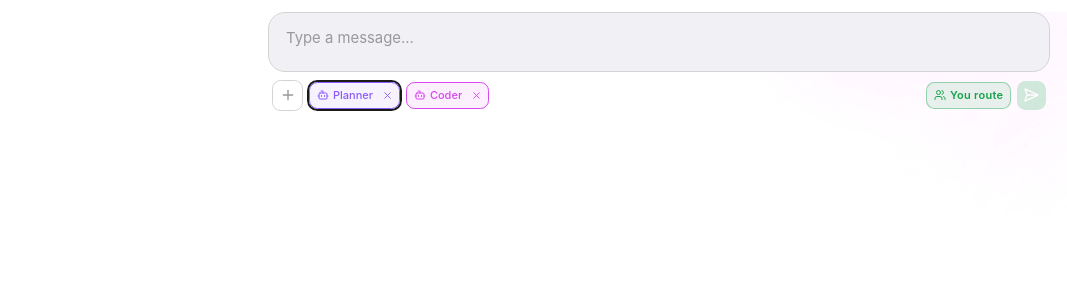
Test case: the agent chip menu › opens the agent folder, and keeps the menu open when that fails
Step 1. Right-click the element showing "Coder" → point(448, 95), box [406, 82, 489, 109]
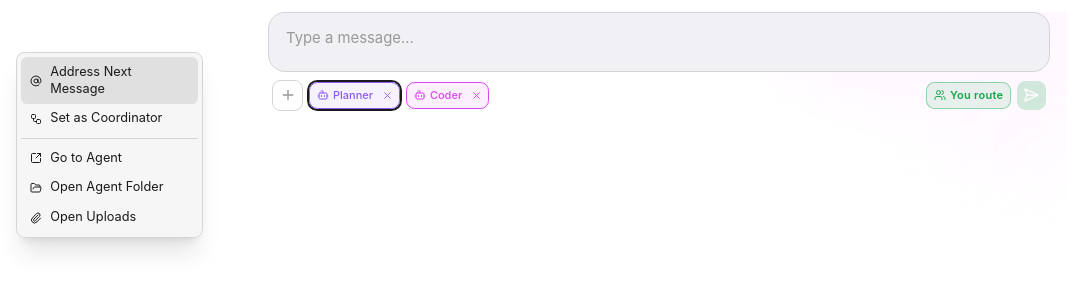
Step 2. Click the menu item "Open Agent Folder" → point(110, 188), box [21, 173, 198, 203]
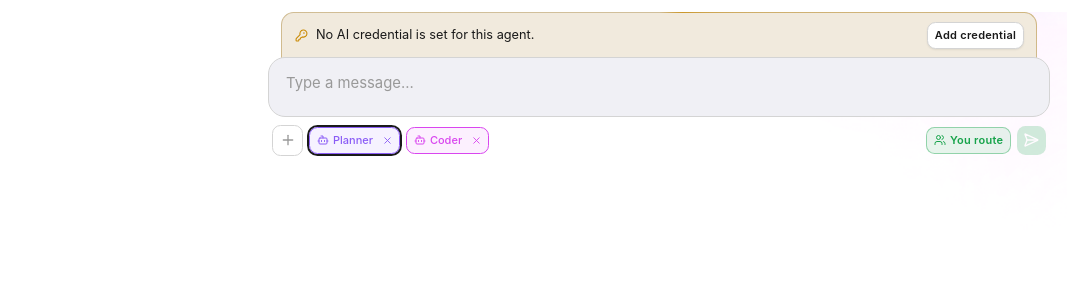
Expected: the menu is gone
Step 3. Right-click the element showing "Coder" → point(448, 140), box [406, 127, 489, 154]
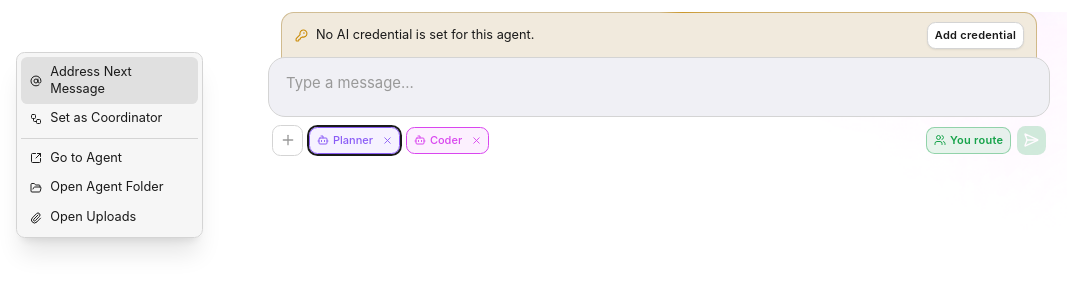
Step 4. Click the menu item "Open Agent Folder" → point(110, 188), box [21, 173, 198, 203]
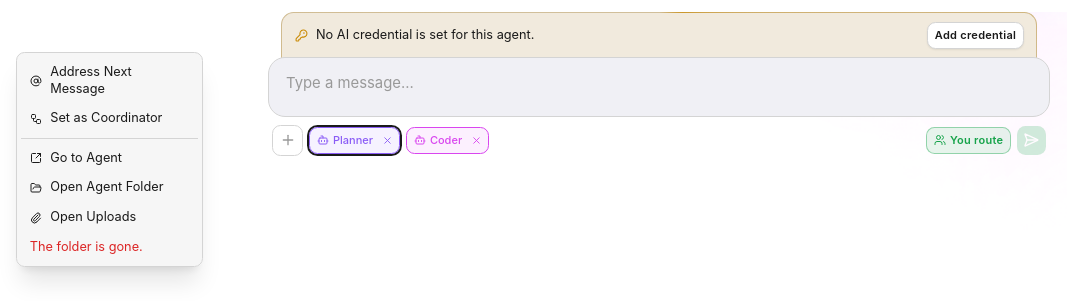
Expected: the menu named "Agent Coder" is shown, [16, 52, 203, 267]
Expected: the message "The folder is gone." is shown, [30, 239, 143, 254]
